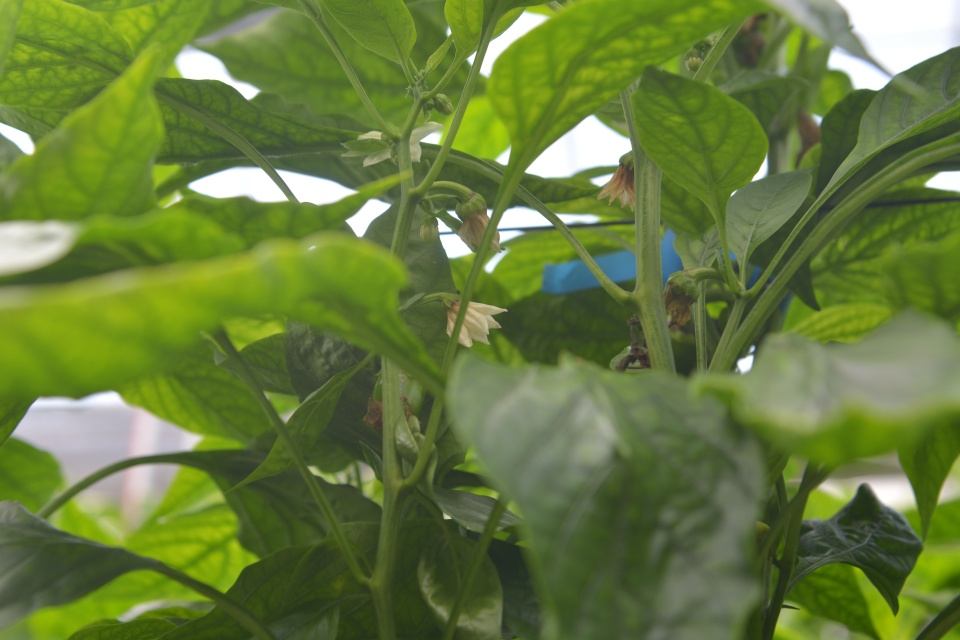flower: (335, 119, 447, 168), (444, 289, 510, 351)
immature: (362, 360, 427, 436)
